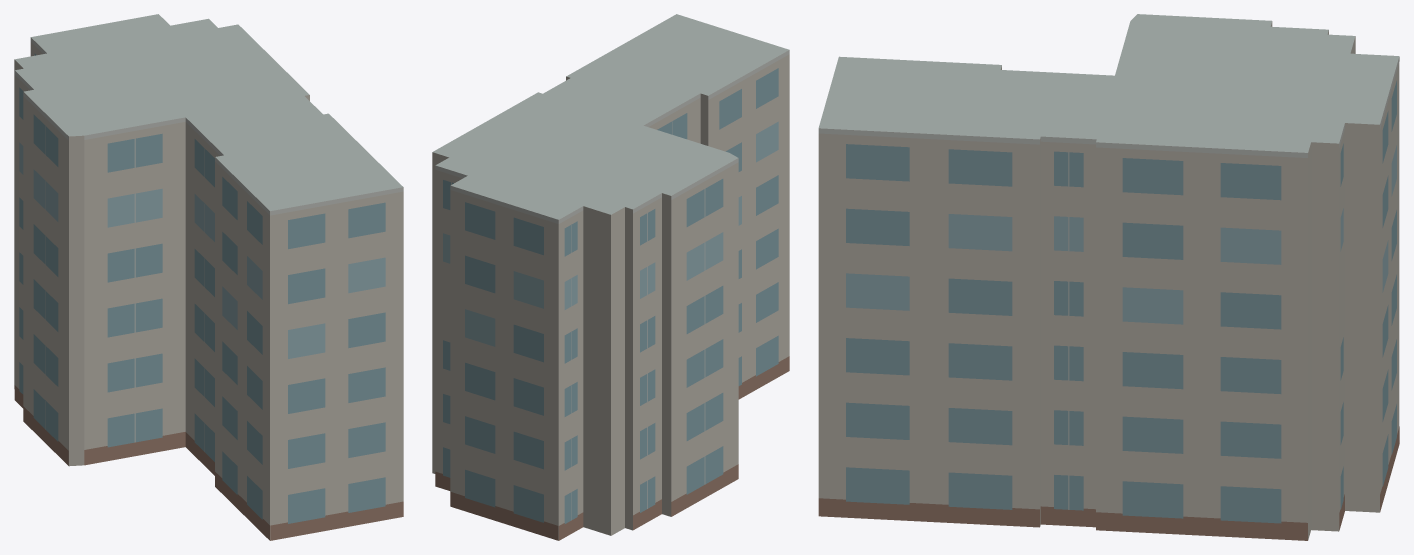
Rendered from survey-upis-32921343.glb.
The picture shows the model from 3 angles, left to right: view 1: azimuth 30°, elevation 25°; view 2: azimuth 150°, elevation 25°; view 3: azimuth 270°, elevation 25°; orthographic projection. The views are drawn at different scales.
Visible parts, largest first — view 1: survey-upis-32921343.tmp; view 2: survey-upis-32921343.tmp; view 3: survey-upis-32921343.tmp.
Part boxes in pixels (x1=…): survey-upis-32921343.tmp: x1=14, y1=14, x2=403, y2=540; survey-upis-32921343.tmp: x1=432, y1=14, x2=789, y2=540; survey-upis-32921343.tmp: x1=818, y1=14, x2=1399, y2=540.
Bounding box in the file's own units: 14.07 × 18.3 × 24.85.
